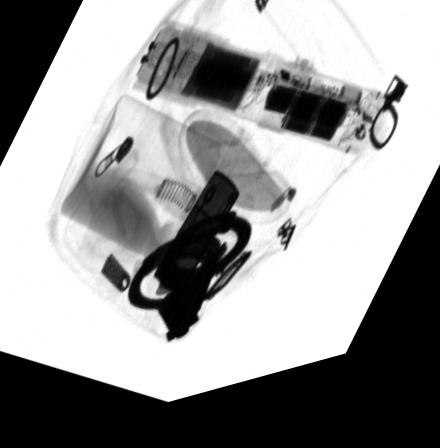Baton: (130, 27, 389, 178)
HandCuffs: (124, 225, 247, 355)
Lighter: (153, 180, 239, 303)
